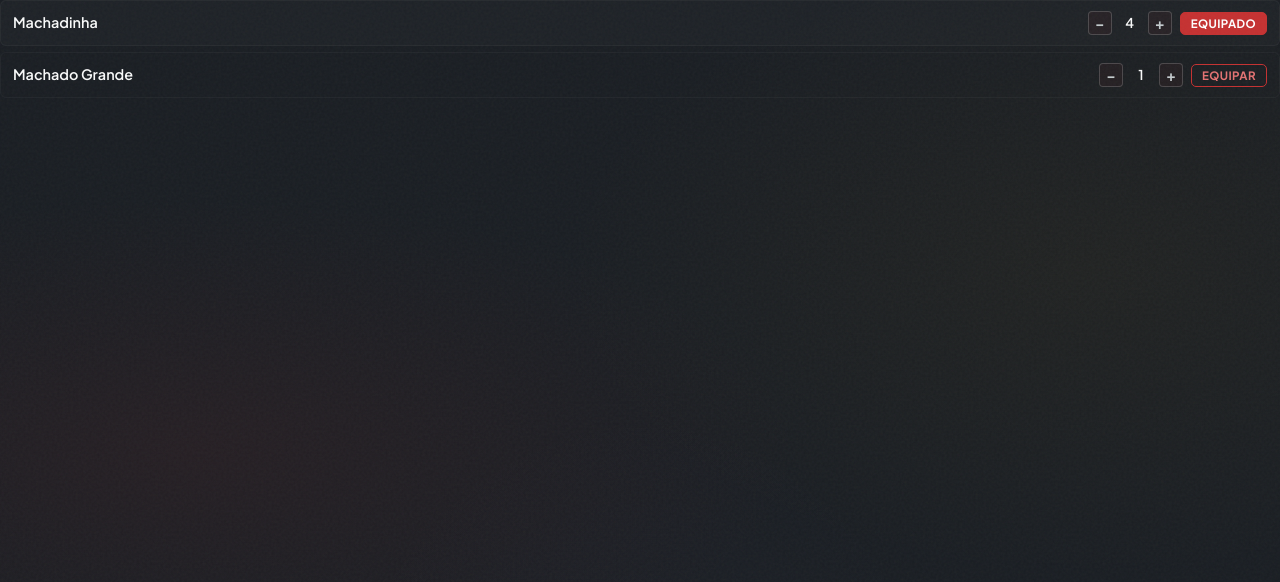
it: Equipamento: itens iguais empilhados › não deixa equipar o Machado Grande com uma Machadinha na mão
Click the button "Equipar".
click(1229, 75)  # box [1191, 64, 1267, 86]
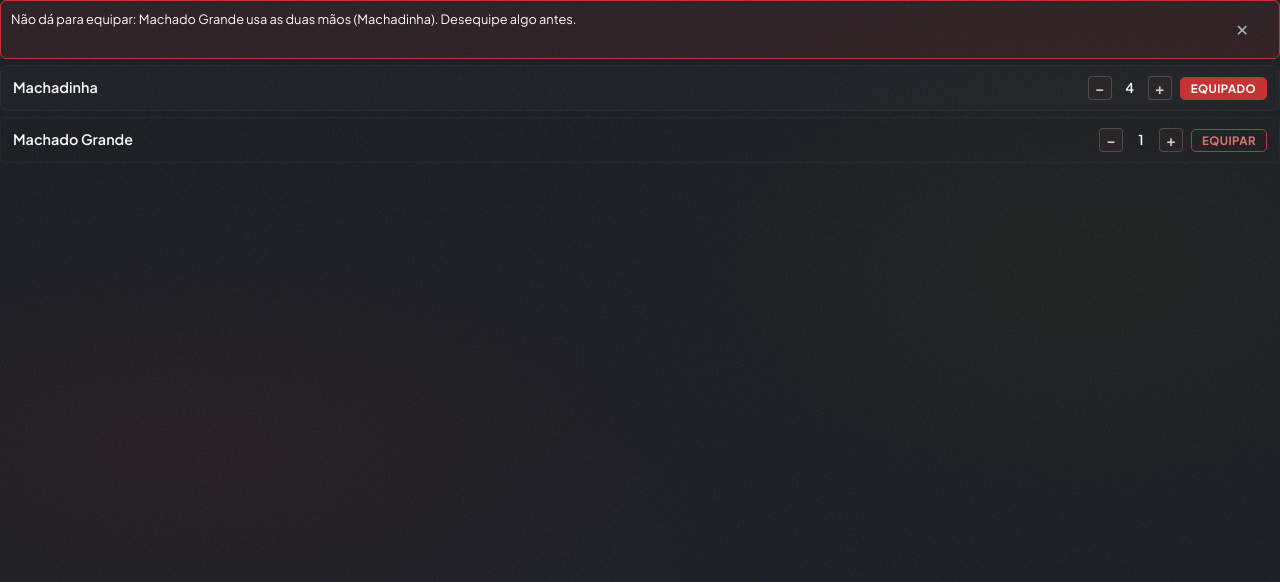
Check: the message shows "usa as duas mãos", box [11, 11, 576, 27]
